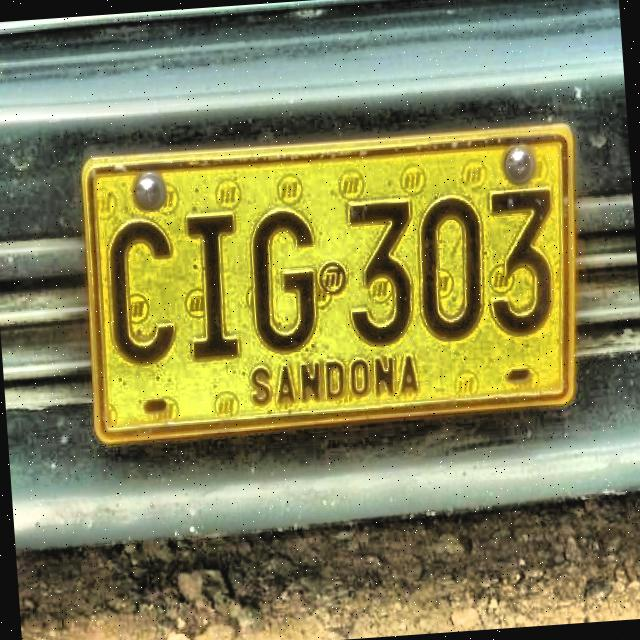0: (413, 192, 483, 347)
3: (343, 195, 415, 352), (485, 187, 553, 342)
C: (102, 215, 180, 369)
G: (242, 207, 321, 360)
I: (178, 211, 247, 365)
